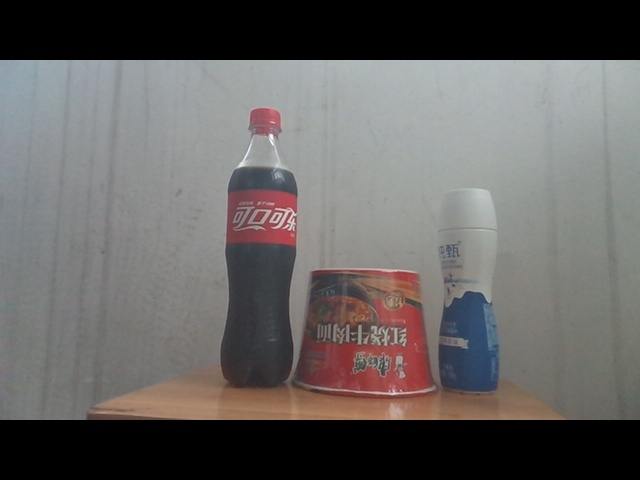cola: (221, 107, 298, 389)
kangshifu: (296, 268, 438, 394)
yogurt: (437, 188, 502, 397)
